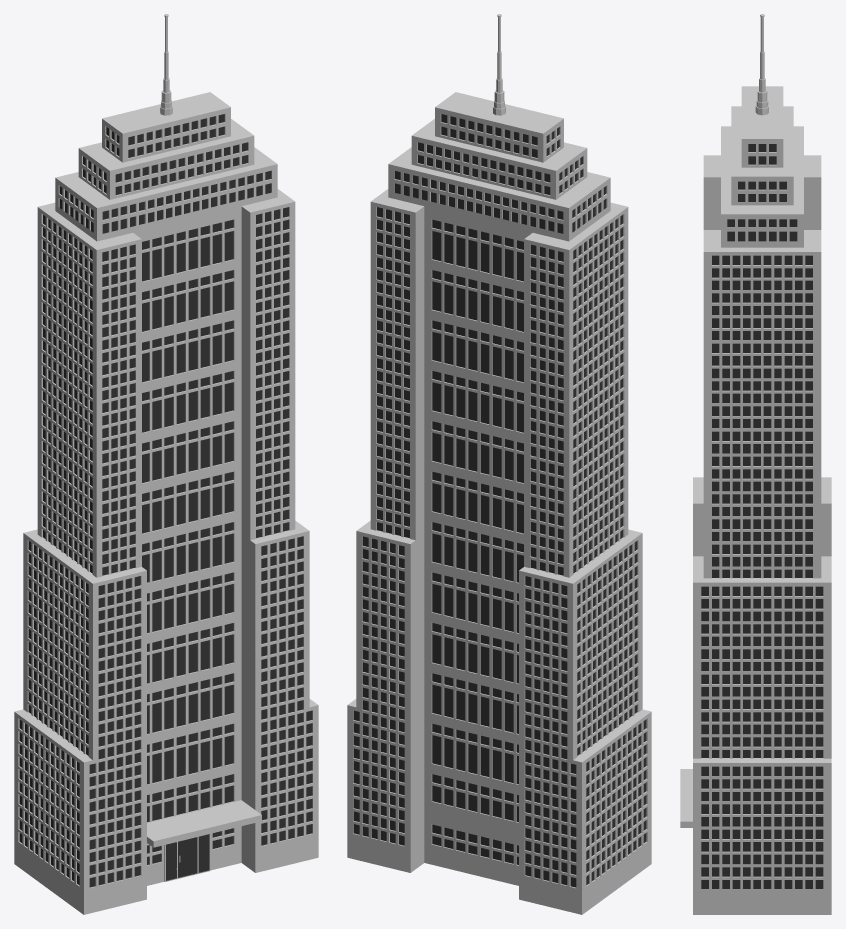
File: spw-urban-bldg-07.glb
3 renders of one model, left to right at view 1: azimuth 30°, elevation 25°; view 2: azimuth 150°, elevation 25°; view 3: azimuth 270°, elevation 25°, orthographic.
Parts seen in each view (by area): view 1: SPW_Urban_Bldg_07; view 2: SPW_Urban_Bldg_07; view 3: SPW_Urban_Bldg_07.
Boxes of the visible parts, x1,y1,x2,y2 form: SPW_Urban_Bldg_07: [14, 14, 318, 914]; SPW_Urban_Bldg_07: [347, 14, 651, 914]; SPW_Urban_Bldg_07: [680, 14, 831, 914].
Bounding box in the file's own units: 19.5 × 67.12 × 10.93.
Materials: 1 (1 with a texture image).
